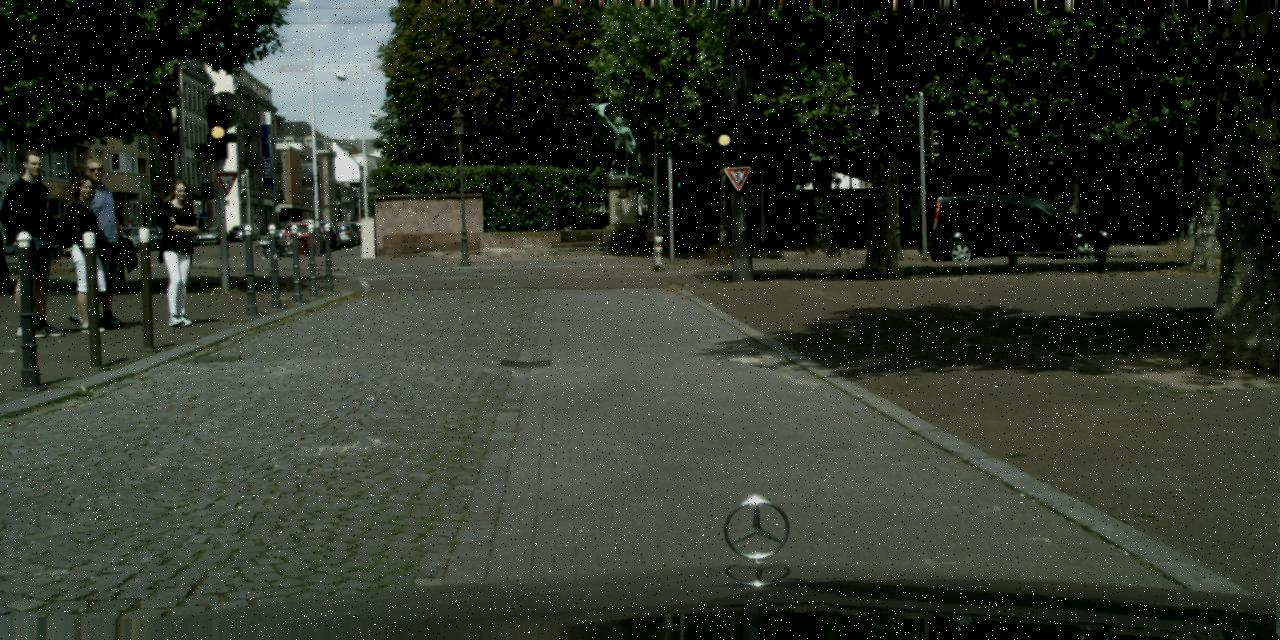ped: (2, 150, 77, 336), (66, 159, 136, 327), (54, 175, 118, 332), (150, 180, 210, 326)
